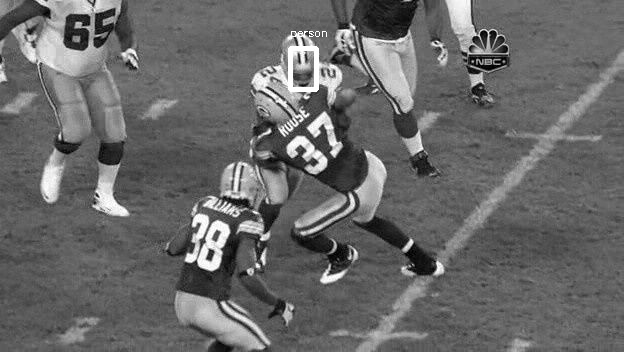person: (280, 41, 318, 90), (279, 41, 317, 90), (281, 41, 319, 90), (280, 40, 318, 89), (280, 42, 318, 91)
target_negative: (39, 69, 621, 197), (397, 69, 605, 281), (117, 4, 237, 234), (400, 133, 478, 244), (587, 162, 604, 256), (555, 270, 558, 300)
